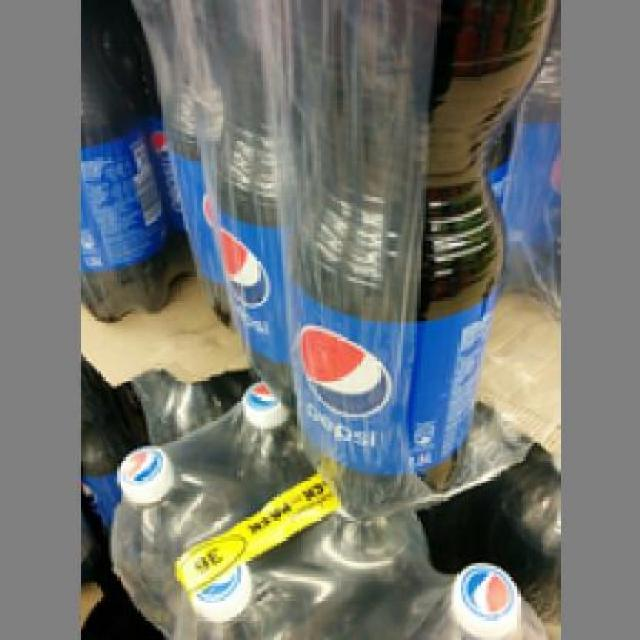Soda: (282, 0, 555, 517), (198, 0, 292, 397), (77, 0, 183, 320)
